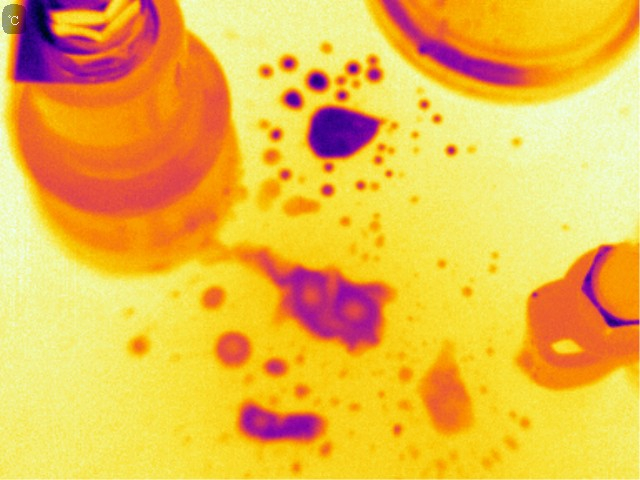Water: (199, 231, 395, 356), (419, 339, 482, 434), (308, 106, 380, 160), (239, 401, 329, 442), (334, 54, 385, 101), (338, 211, 389, 240), (215, 330, 251, 366), (260, 355, 290, 385), (281, 195, 319, 215), (509, 404, 536, 431), (305, 70, 330, 94), (276, 89, 304, 110), (203, 283, 225, 308), (485, 249, 499, 277), (259, 147, 282, 164), (131, 337, 150, 356), (461, 284, 479, 304), (443, 139, 458, 163), (280, 54, 298, 72), (318, 179, 335, 198), (267, 126, 284, 144), (391, 422, 405, 443), (318, 160, 340, 173), (354, 178, 368, 198), (436, 255, 450, 274), (316, 40, 335, 54), (509, 134, 525, 150), (397, 366, 411, 383), (295, 386, 312, 399), (277, 168, 295, 180), (258, 62, 272, 77), (349, 401, 363, 416), (430, 111, 443, 127), (417, 99, 433, 110), (507, 437, 520, 449), (320, 444, 334, 454)
